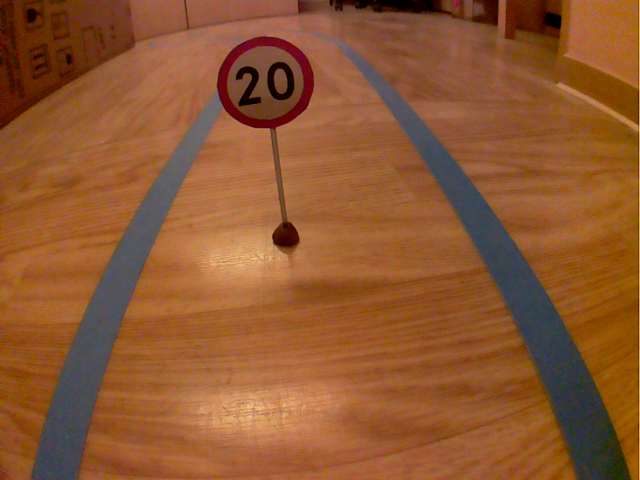Ograniczenie 20: (212, 32, 317, 133)
